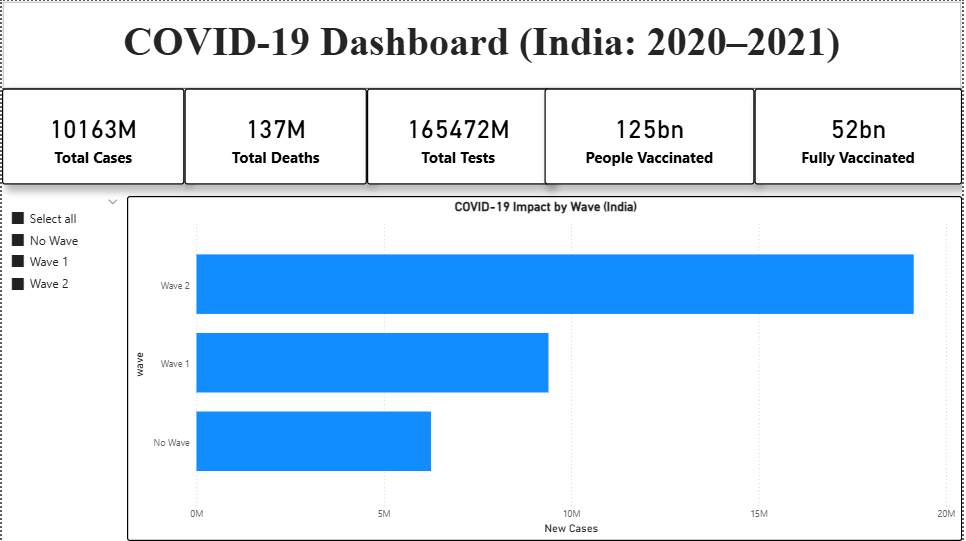

The dashboard page shown, as its layout file describes it:
{"tool":"powerbi","page":{"name":"Page 1","canvas":[1280,720],"ordinal":0},"visuals":[{"type":"clusteredBarChart","title":"COVID-19 Impact by Wave (India)","fields":{"Category":["Wave Data.wave"],"Y":["Sum(Wave Data.new_cases)"]},"box":[166.7,260,1113.3,460],"z":0},{"type":"slicer","fields":{"Values":["Wave Data.wave"]},"box":[0,260,166.7,460],"z":1000},{"type":"textbox","box":[0,0,1280,116.7],"z":2000},{"type":"card","fields":{"Values":["Daily Data.Total Cases"]},"box":[0,116.7,243.3,128.3],"z":2001},{"type":"card","fields":{"Values":["Daily Data.Total Deaths"]},"box":[243.3,116.7,243.3,128.3],"z":2002},{"type":"card","fields":{"Values":["Daily Data.Total Tests"]},"box":[486.7,116.7,243.3,128.3],"z":2003},{"type":"card","fields":{"Values":["Daily Data.People Vaccinated"]},"box":[723.3,116.7,280,128.3],"z":2004},{"type":"card","fields":{"Values":["Daily Data.Fully Vaccinated"]},"box":[1003.3,116.7,276.7,128.3],"z":2005}]}

Visuals, with their boxes in screenshot pixels (x1, y1, x2, y2), scaled from the page's 1280x720 canvas onto the 966x541 screenshot:
"COVID-19 Impact by Wave (India)" clusteredBarChart: (x1=126, y1=195, x2=965, y2=540)
slicer - Wave Data.wave: (x1=0, y1=195, x2=126, y2=540)
textbox: (x1=0, y1=0, x2=965, y2=88)
card - Daily Data.Total Cases: (x1=0, y1=88, x2=184, y2=184)
card - Daily Data.Total Deaths: (x1=184, y1=88, x2=367, y2=184)
card - Daily Data.Total Tests: (x1=367, y1=88, x2=551, y2=184)
card - Daily Data.People Vaccinated: (x1=546, y1=88, x2=757, y2=184)
card - Daily Data.Fully Vaccinated: (x1=757, y1=88, x2=965, y2=184)
